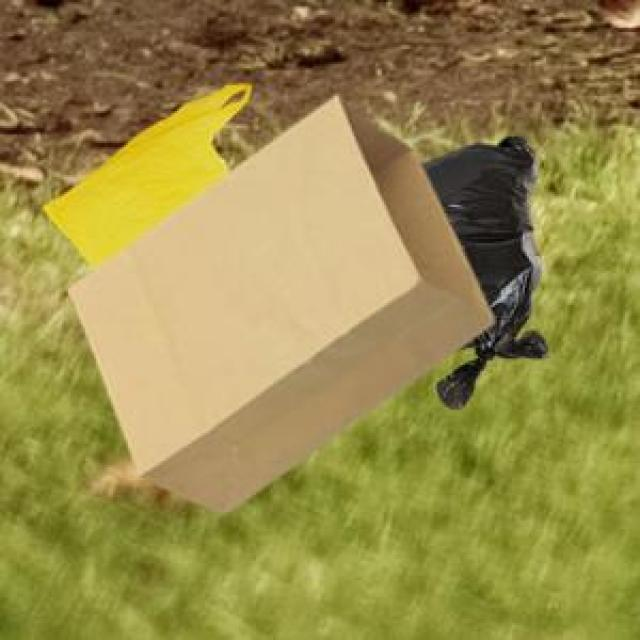miscellaneous trash: (416, 132, 544, 405)
paper: (64, 92, 489, 510)
